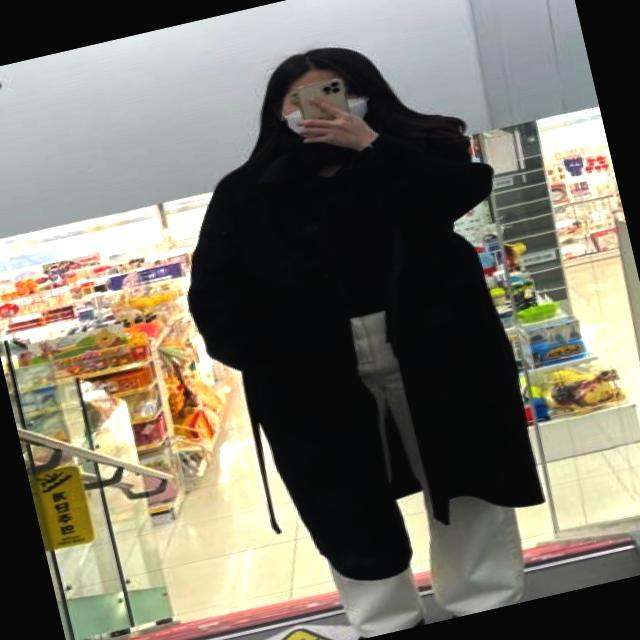coat: (155, 101, 579, 607)
cottonpants: (273, 289, 533, 640)
